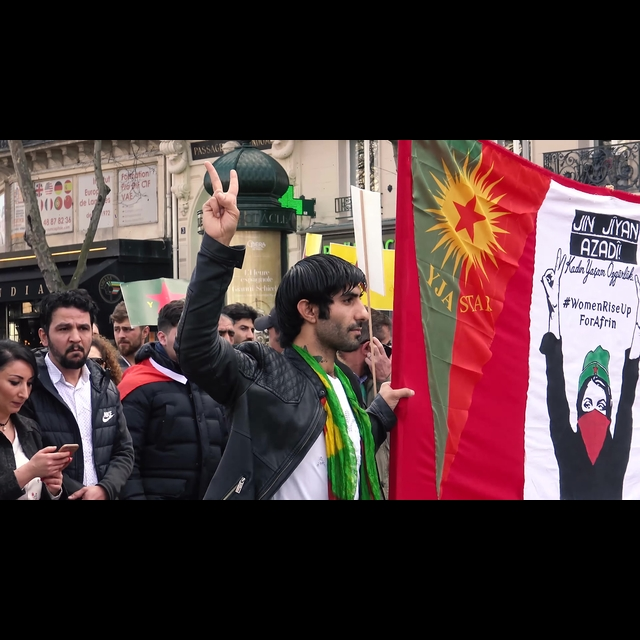ZI: (194, 154, 246, 248)
